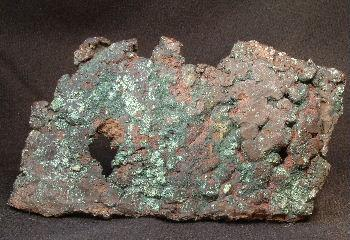copper: (218, 41, 347, 172), (9, 132, 124, 218), (168, 115, 232, 187)
